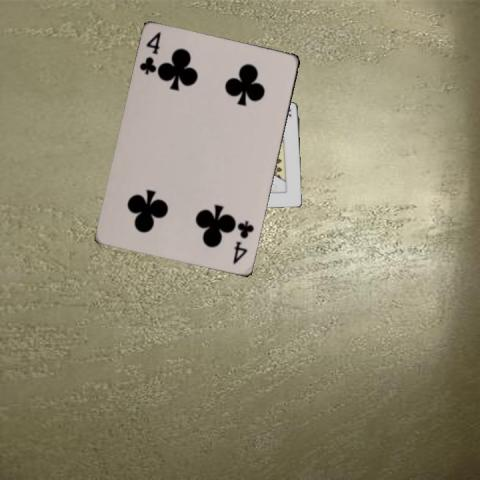4c: (230, 218, 256, 266), (136, 29, 162, 77)
